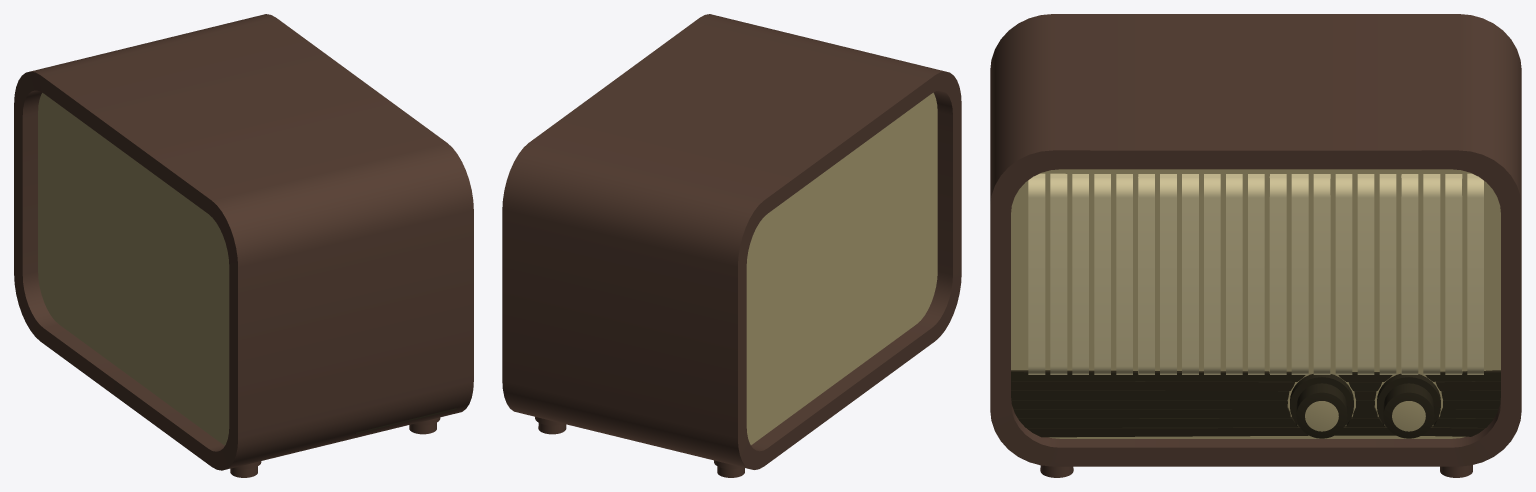
The model's file is Radio_1.fbx.
3 renders of one model, left to right at view 1: azimuth 30°, elevation 25°; view 2: azimuth 150°, elevation 25°; view 3: azimuth 270°, elevation 25°, orthographic. The views are drawn at different scales.
Visible parts, largest first — view 1: Cube.004; view 2: Cube.004; view 3: Cube.004.
Part boxes in pixels (left/top/right/bottom): Cube.004: left=14, top=14, right=473, bottom=477; Cube.004: left=502, top=14, right=961, bottom=477; Cube.004: left=990, top=14, right=1521, bottom=477.
Size of the model in its own units: 320 by 350 by 506.
